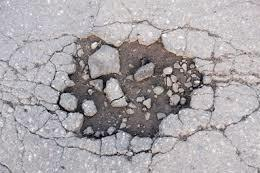alligator-crack: (5, 19, 260, 161)
pothole: (61, 36, 197, 142)
